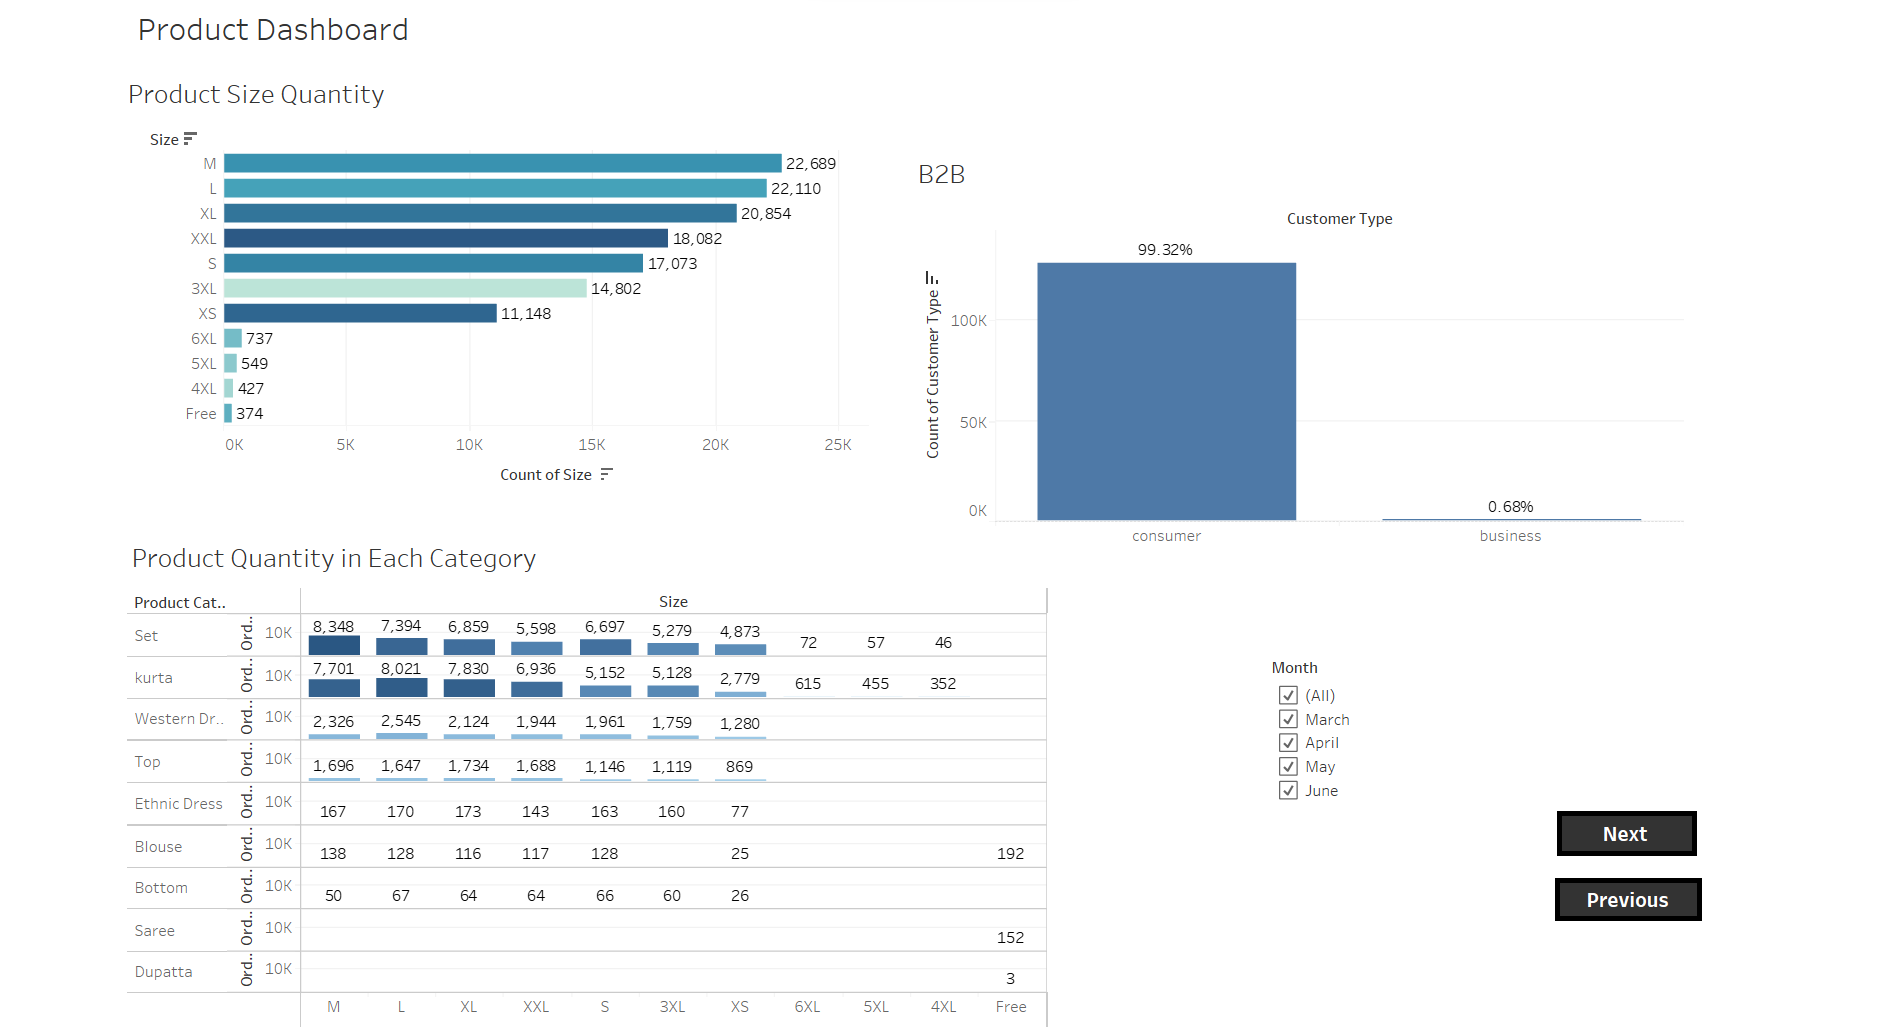

The page's visual inventory and layout, read from the dashboard file:
{"tool":"tableau","page":{"name":"Dashboard 4","canvas":[1000,1000],"units":"permille","ordinal":3},"visuals":[{"type":"title","box":[6.1,12.1,987.9,63.4]},{"type":"worksheet","title":"Sheet 13","mark":"Automatic","rows":["size"],"cols":["size"],"box":[2.3,75.4,452.3,452.5]},{"type":"worksheet","title":"Sheet 15","mark":"Automatic","rows":["customerType"],"cols":["customerType"],"box":[481.1,152.3,467.4,390.7]},{"type":"worksheet","title":"Sheet 14","mark":"Automatic","rows":["productCategory","orderQuantity"],"cols":["size"],"box":[4.5,520.4,558.3,476.6]},{"type":"filter","title":"Sheet 14","param":"[federated.1d5u7ym0utdstj1f5yex61mse7ze].[none:Calculation_2085166640068116481:n","box":[698.5,638,121.2,179.5]},{"type":"dashboard-object","box":[871.2,785.8,84.9,43.7]},{"type":"dashboard-object","box":[870.5,850.7,88.6,40.7]}]}

Visuals, with their boxes on the dashboard's canvas, which has no fixed pixel size, in thousandths of its width and height (x1, y1, x2, y2). These are canvas units, not pixel positions in the 1879x1027 screenshot, which may show the page scaled, cropped or inside an application window:
title: (6,12,994,76)
"Sheet 13" worksheet: (2,75,455,528)
"Sheet 15" worksheet: (481,152,948,543)
"Sheet 14" worksheet: (4,520,563,997)
"Sheet 14" filter: (698,638,820,818)
dashboard-object: (871,786,956,830)
dashboard-object: (870,851,959,891)
